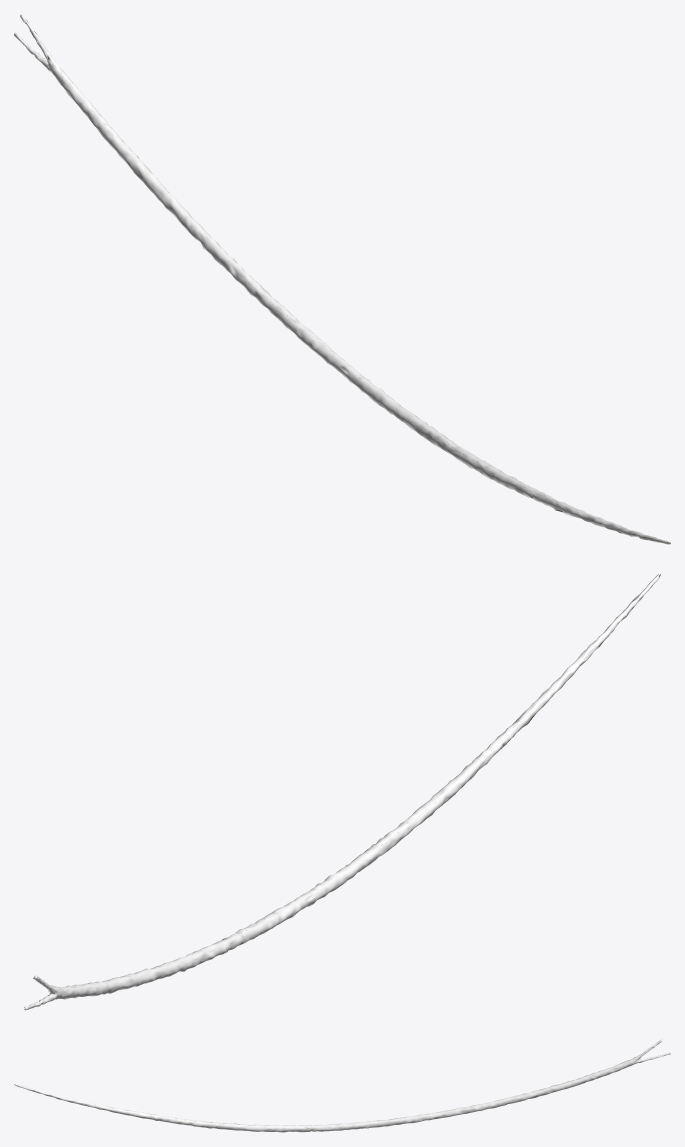
File: Dorsal (57).glb
The picture shows the model from 3 angles, top to bottom: view 1: azimuth 30°, elevation 25°; view 2: azimuth 150°, elevation 25°; view 3: azimuth 270°, elevation 25°; orthographic projection. The views are drawn at different scales.
Parts seen in each view (by area): view 1: tripo_node_c8b6ab8e-a434-4db7-80bf-16f2b11774bf; view 2: tripo_node_c8b6ab8e-a434-4db7-80bf-16f2b11774bf; view 3: tripo_node_c8b6ab8e-a434-4db7-80bf-16f2b11774bf.
Boxes of the visible parts, <box> form: tripo_node_c8b6ab8e-a434-4db7-80bf-16f2b11774bf: <box>14,14,670,544</box>; tripo_node_c8b6ab8e-a434-4db7-80bf-16f2b11774bf: <box>24,573,660,1010</box>; tripo_node_c8b6ab8e-a434-4db7-80bf-16f2b11774bf: <box>14,1039,670,1132</box>.
Size of the model in its own units: 0.0662 by 0.2364 by 1.68.
1 material, 1 textured.
